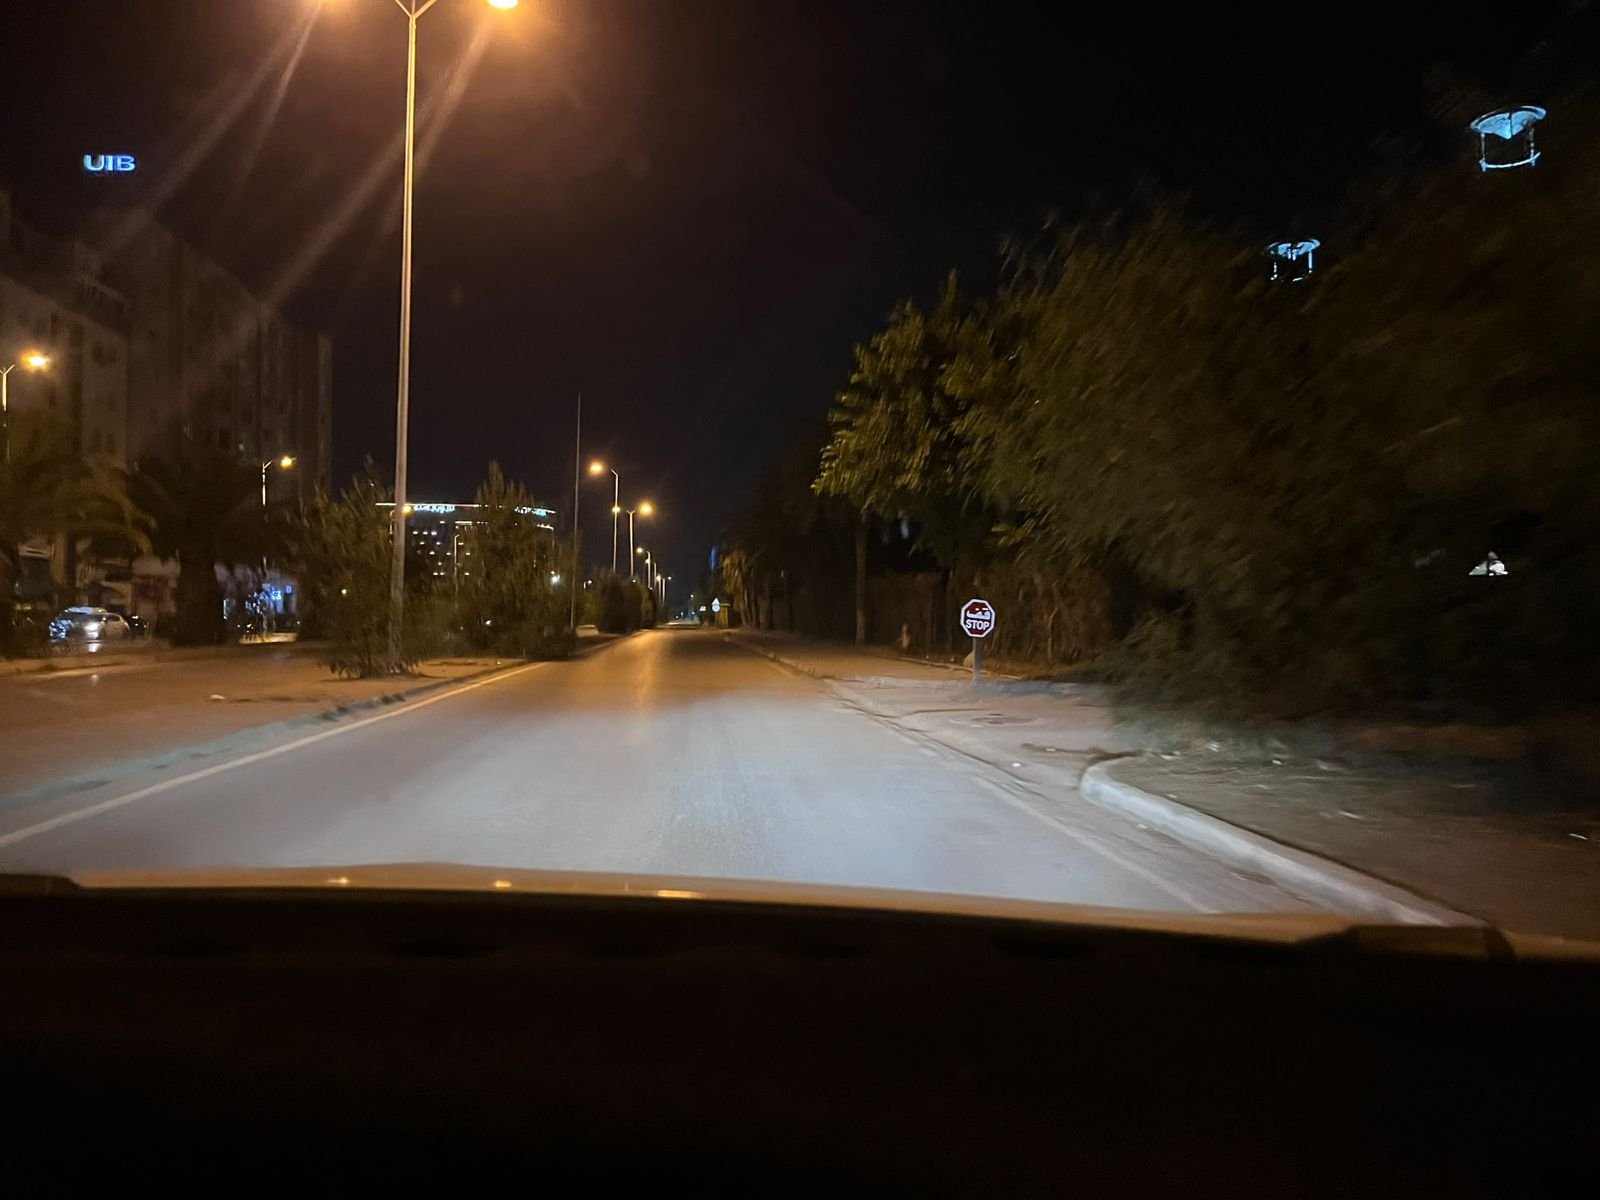Stop: (960, 599, 995, 638)
